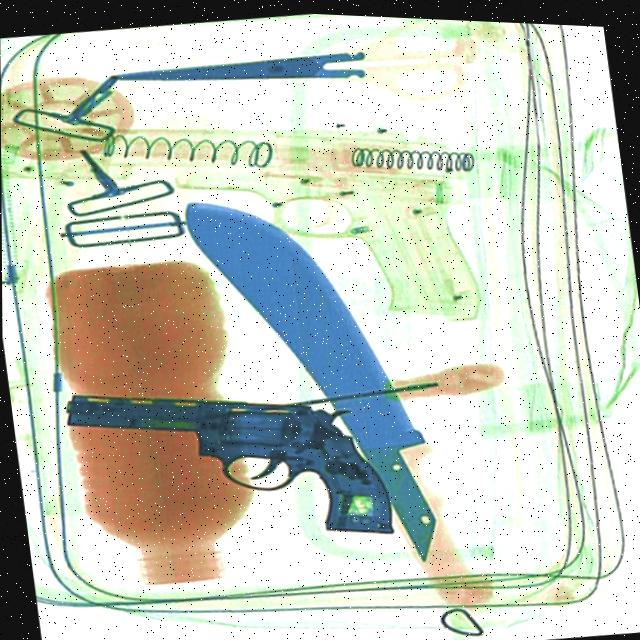knife: (179, 172, 445, 581), (111, 34, 371, 104)
pistol: (81, 82, 485, 359), (58, 353, 397, 569)
